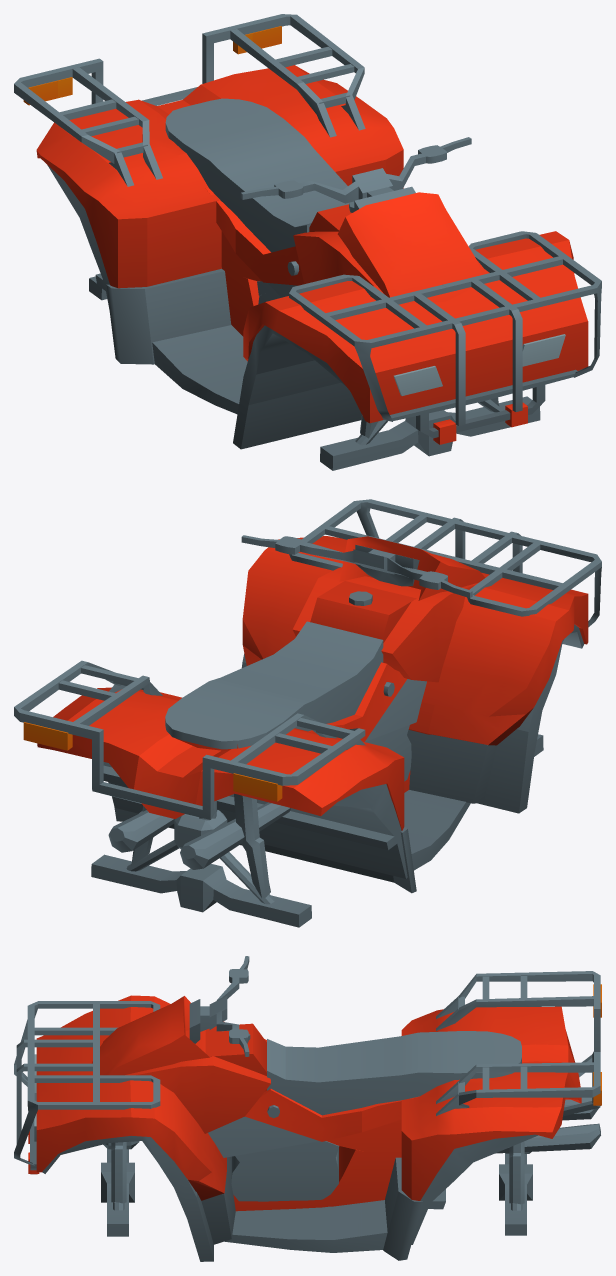
The model's file is kartttttttt.fbx.
3 views of the same model, one above another, from view 1: azimuth 30°, elevation 25°; view 2: azimuth 150°, elevation 25°; view 3: azimuth 270°, elevation 25° (orthographic). The views are drawn at different scales.
Visible parts, largest first — view 1: Parte 1, Parte 3, detalhaes, banco, Gradee, parte 1.001, parte 4, parte 2.002, apoio do pe, Frente sistema, guidao, embaixo do banco (+4 smaller); view 2: Parte 3, Parte 1, banco, tras sistema, Gradee, detalhaes, parte 3.001, parte 2.001, parte 5, parte 4, tampa do tanque, guidao (+5 smaller); view 3: Parte 1, Parte 3, banco, Gradee, detalhaes, apoio do pe, parte 2.001, parte 1.001, parte 3, tras sistema, embaixo do banco, Parte 6 (+11 smaller).
Part boxes in pixels (x1=…): Parte 1: x1=36, y1=65, x2=403, y2=288; Parte 3: x1=243, y1=231, x2=588, y2=423; detalhaes: x1=289, y1=231, x2=601, y2=444; banco: x1=165, y1=98, x2=348, y2=252; Gradee: x1=14, y1=14, x2=365, y2=186; parte 1.001: x1=337, y1=192, x2=482, y2=304; parte 4: x1=233, y1=325, x2=366, y2=449; parte 2.002: x1=106, y1=268, x2=231, y2=364; apoio do pe: x1=152, y1=325, x2=247, y2=414; Frente sistema: x1=320, y1=396, x2=540, y2=470; guidao: x1=240, y1=137, x2=471, y2=211; embaixo do banco: x1=205, y1=187, x2=304, y2=285; Parte 3: x1=242, y1=536, x2=588, y2=745; Parte 1: x1=37, y1=687, x2=404, y2=830; banco: x1=165, y1=621, x2=383, y2=749; tras sistema: x1=91, y1=793, x2=311, y2=927; Gradee: x1=14, y1=660, x2=365, y2=820; detalhaes: x1=289, y1=499, x2=601, y2=627; parte 3.001: x1=103, y1=762, x2=407, y2=878; parte 2.001: x1=292, y1=567, x2=474, y2=682; parte 5: x1=407, y1=730, x2=497, y2=803; parte 4: x1=241, y1=624, x2=584, y2=813; tampa do tanque: x1=310, y1=581, x2=416, y2=663; guidao: x1=241, y1=535, x2=472, y2=597; Parte 1: x1=401, y1=1006, x2=581, y2=1200; Parte 3: x1=34, y1=995, x2=226, y2=1200; banco: x1=267, y1=1031, x2=521, y2=1115; Gradee: x1=436, y1=971, x2=601, y2=1116; detalhaes: x1=14, y1=1001, x2=160, y2=1174; apoio do pe: x1=224, y1=1200, x2=387, y2=1252; parte 2.001: x1=129, y1=1021, x2=270, y2=1133; parte 1.001: x1=91, y1=996, x2=209, y2=1075; parte 3: x1=231, y1=1148, x2=338, y2=1201; tras sistema: x1=495, y1=1097, x2=600, y2=1235; embaixo do banco: x1=245, y1=1088, x2=419, y2=1141; Parte 6: x1=326, y1=1119, x2=401, y2=1206.
Bounding box in the file's own units: 191 × 140 × 373.
24 materials, 24 textured.
